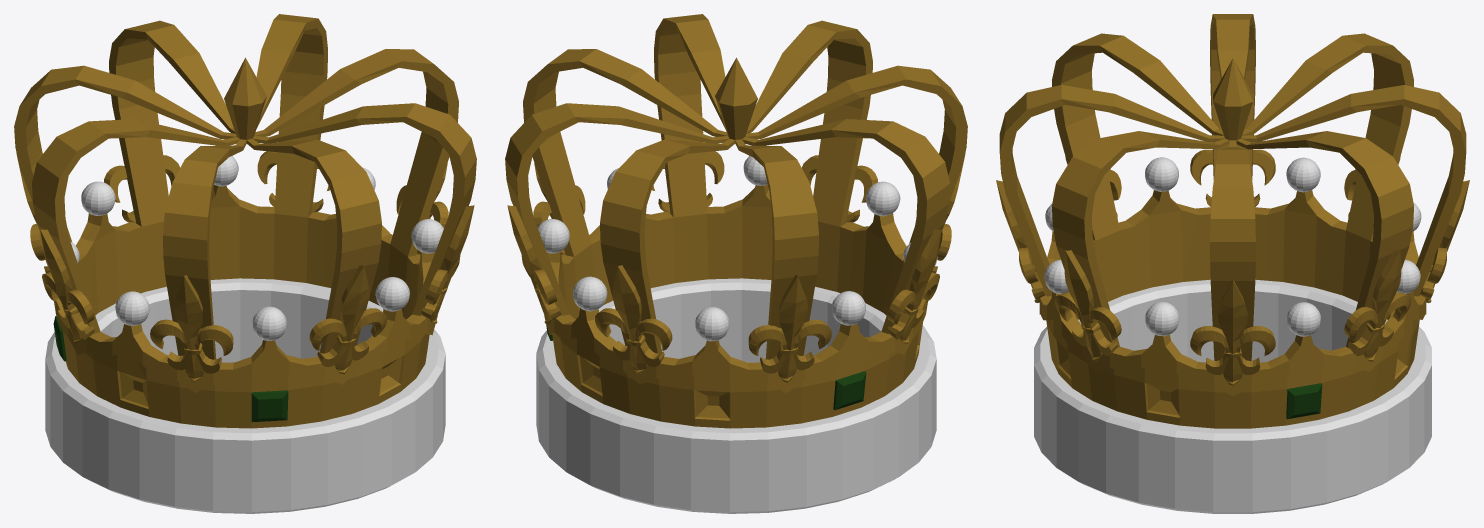
The model's file is CrownBroken.fbx.
3 renders of one model, left to right at view 1: azimuth 30°, elevation 25°; view 2: azimuth 150°, elevation 25°; view 3: azimuth 270°, elevation 25°, orthographic.
Parts seen in each view (by area): view 1: polySurface4; view 2: polySurface4; view 3: polySurface4.
Part boxes in pixels (bbox=[...]): polySurface4: bbox=[14, 14, 476, 513]; polySurface4: bbox=[505, 14, 967, 513]; polySurface4: bbox=[996, 14, 1469, 513].
Size of the model in its own units: 20.71 by 18.05 by 20.71.
